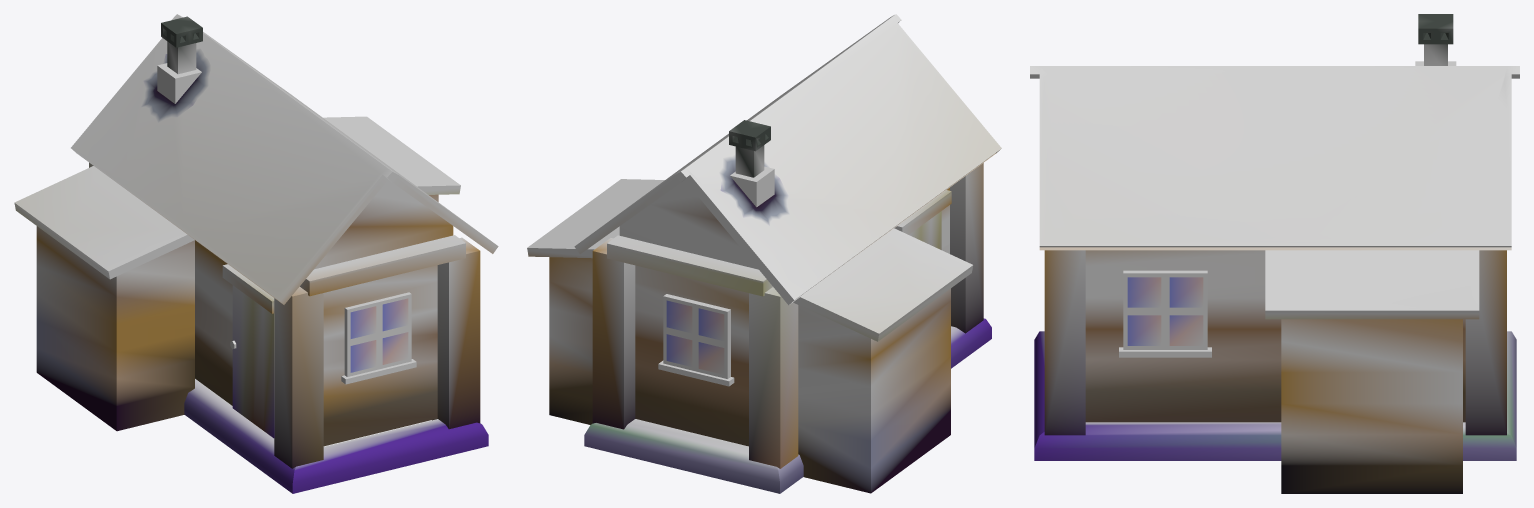
Rendered from House1V3.fbx.
3 views of the same model, side by side, from view 1: azimuth 30°, elevation 25°; view 2: azimuth 150°, elevation 25°; view 3: azimuth 270°, elevation 25° (orthographic). The views are drawn at different scales.
Visible parts, largest first — view 1: House1; view 2: House1; view 3: House1.
Part boxes in pixels (x1=…): House1: x1=14, y1=14, x2=498, y2=493; House1: x1=527, y1=14, x2=1001, y2=493; House1: x1=1030, y1=14, x2=1519, y2=493.
Size of the model in its own units: 451 by 395 by 477.
